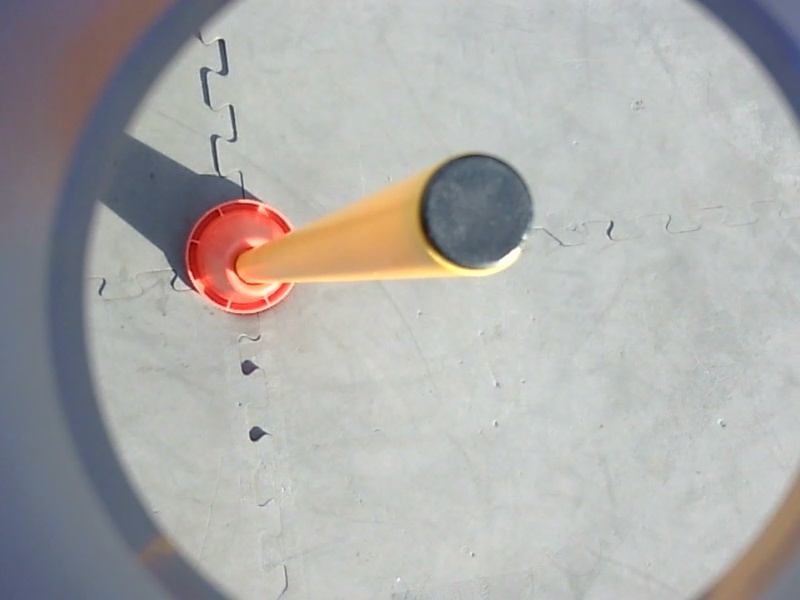tip: (405, 148, 541, 282)
